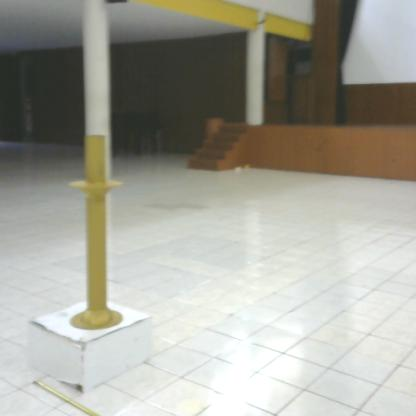pole: (65, 130, 129, 339)
